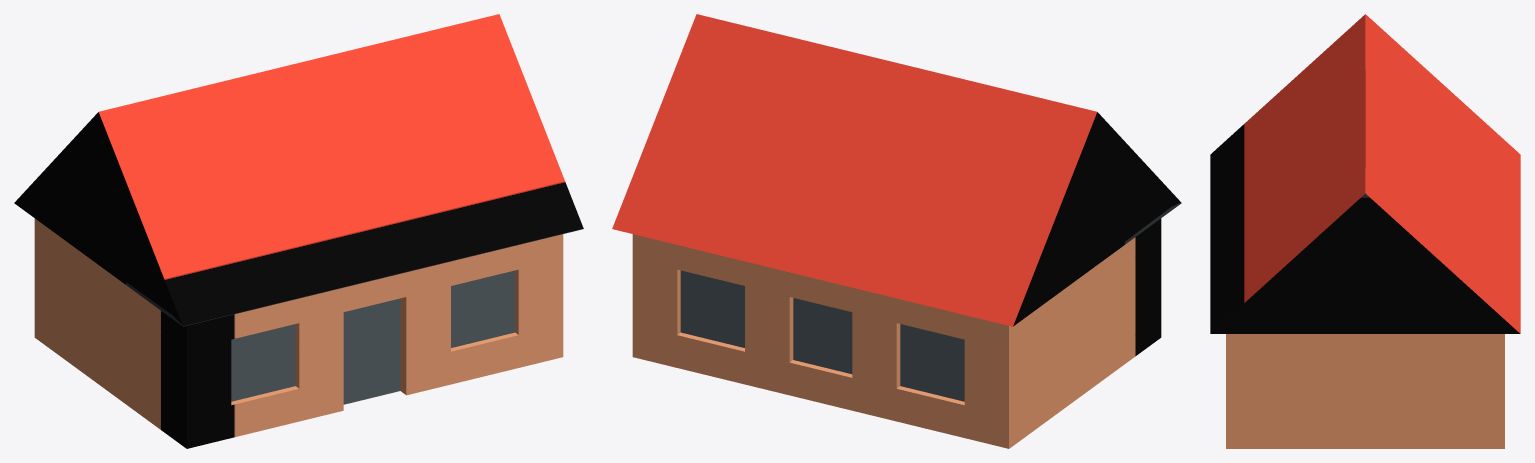
Rendered from House-1.obj.
3 renders of one model, left to right at view 1: azimuth 30°, elevation 25°; view 2: azimuth 150°, elevation 25°; view 3: azimuth 270°, elevation 25°, orthographic. The views are drawn at different scales.
Parts seen in each view (by area): view 1: Plane_Plane.001; view 2: Plane_Plane.001; view 3: Plane_Plane.001.
Part boxes in pixels (x1,y1,x2,y2): Plane_Plane.001: (14,14,583,448); Plane_Plane.001: (612,14,1181,448); Plane_Plane.001: (1210,14,1520,448).
Bounding box in the file's own units: 19.17 × 13 × 14.
